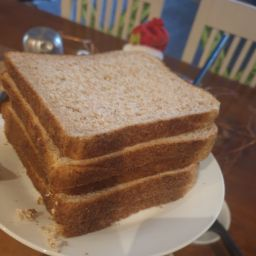Breads: (1, 43, 235, 244), (26, 87, 224, 236)
